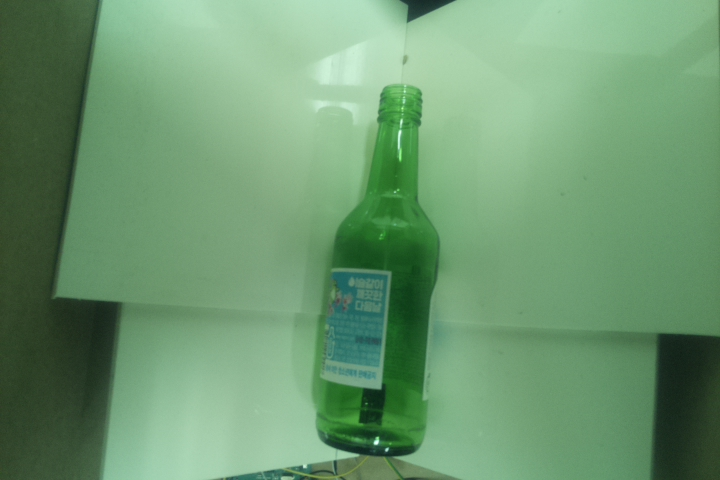soju: (310, 84, 439, 458)
